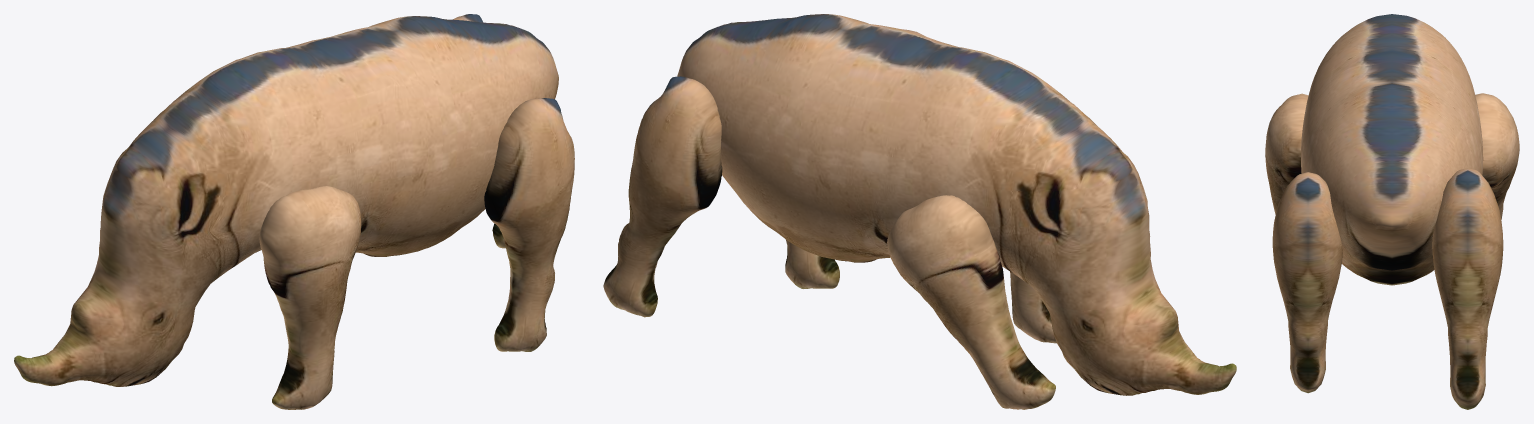
The model's file is rhino.glb.
3 views of the same model, side by side, from view 1: azimuth 30°, elevation 25°; view 2: azimuth 150°, elevation 25°; view 3: azimuth 270°, elevation 25° (orthographic). The views are drawn at different scales.
Size of the model in its own units: 6.33 by 3.28 by 2.73.
Materials: 1 (1 with a texture image).
